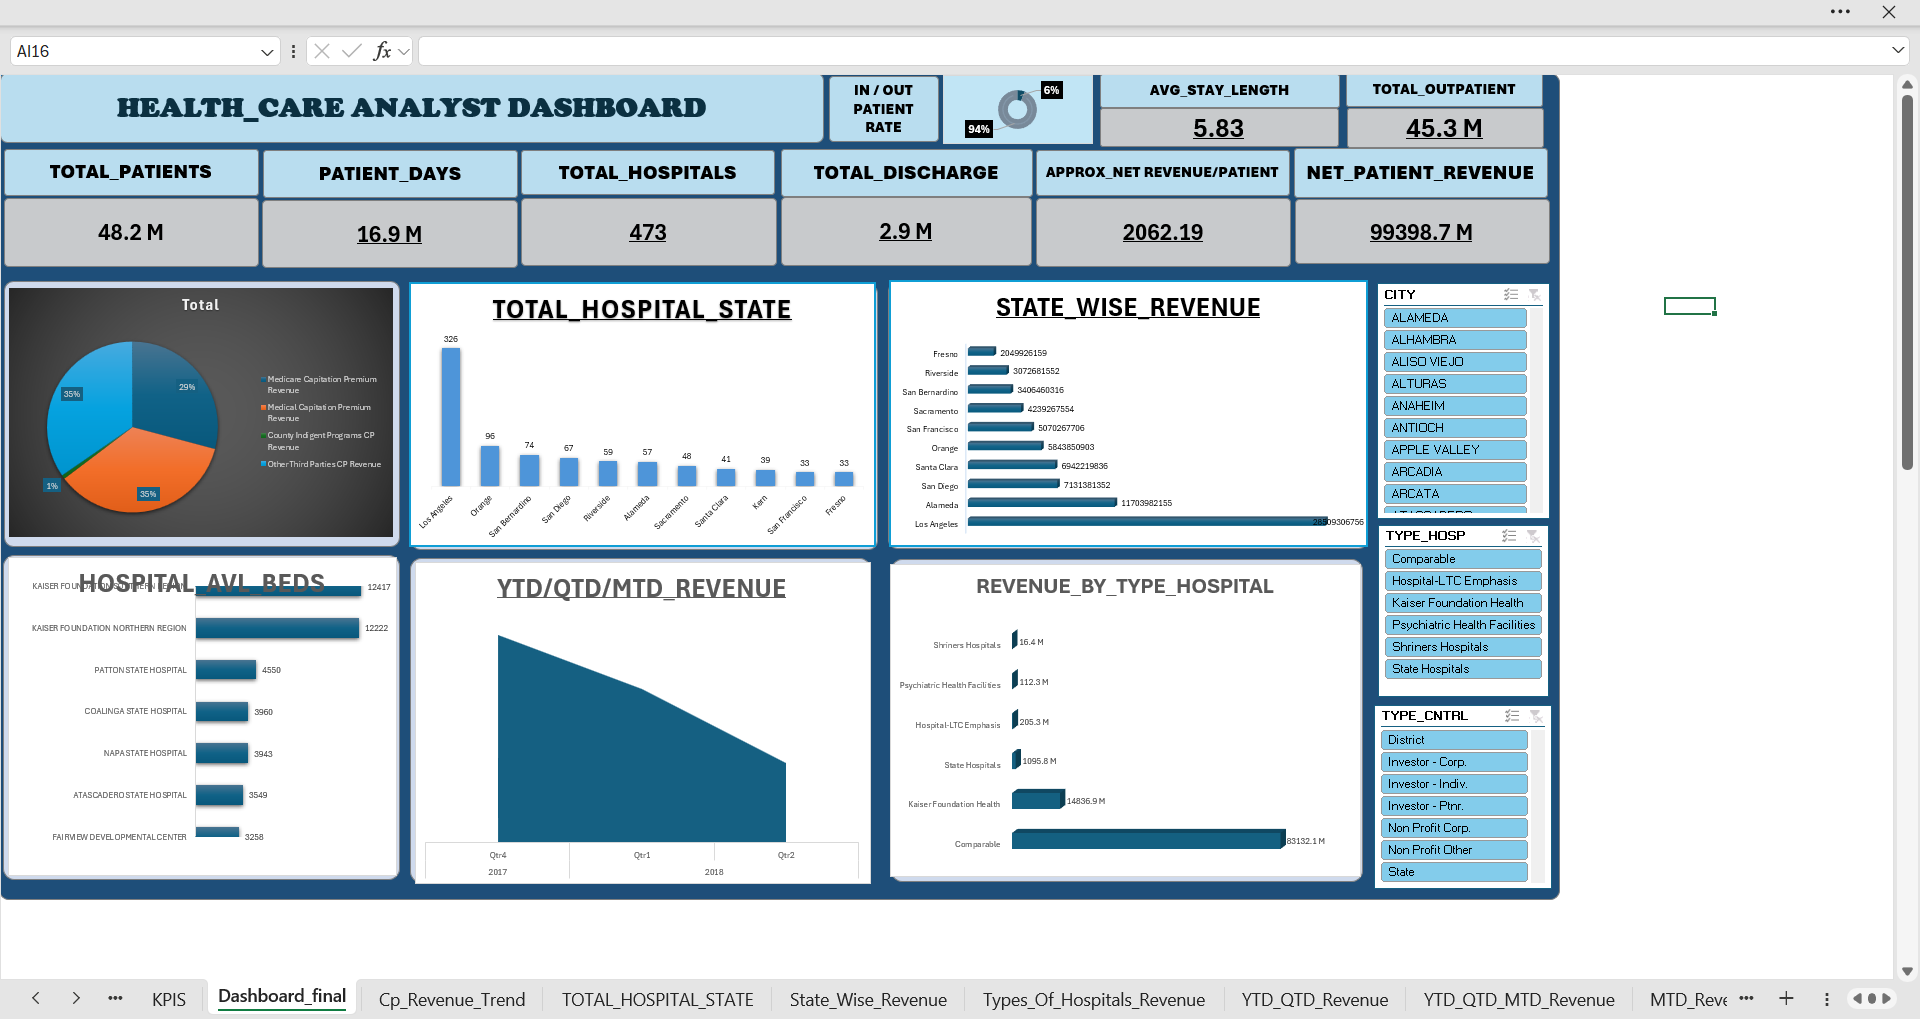

Layout of this report page (visuals, bound fields, positions):
{"tool":"tableau","page":{"name":"Dashboard 2","canvas":[1000,1000],"units":"permille","ordinal":1},"visuals":[{"type":"image","param":"Image/PLUS SYMBOL.png","box":[295.8,6.6,43.4,46.1]},{"type":"dashboard-object","box":[13.5,8.8,42.2,48.3]},{"type":"text","box":[5.1,9.4,989.7,48.1]},{"type":"dashboard-object","box":[842.4,9.9,28.1,45]},{"type":"dashboard-object","box":[944.9,9.9,26.4,45]},{"type":"dashboard-object","box":[751,12.1,31.1,40.6]},{"type":"worksheet","title":"Patients_days","mark":"Automatic","box":[5.1,57.5,247.4,81.2]},{"type":"worksheet","title":"Approx Net Revenue / Patient","mark":"Automatic","box":[252.5,57.5,247.4,81.2]},{"type":"worksheet","title":" Total Outpatient","mark":"Automatic","box":[499.9,57.5,247.4,81.2]},{"type":"worksheet","title":"Avg Stat Length","mark":"Automatic","box":[747.4,57.5,247.5,81.2]},{"type":"worksheet","title":"Hospital's Avl/Stf Beds","mark":"Automatic","rows":["FAC_NAME"],"box":[5.1,138.7,494.8,851.9]},{"type":"worksheet","title":"State Wise Revenue","mark":"Automatic","rows":["COUNTY_NAME"],"cols":["NET_TOT"],"box":[499.9,138.7,494.9,430.8]},{"type":"worksheet","title":"Capitation Premium Revenue","mark":"Pie","box":[499.9,569.5,494.9,421.1]}]}

Visuals, with their boxes on the dashboard's canvas, which has no fixed pixel size, in thousandths of its width and height (x1, y1, x2, y2). These are canvas units, not pixel positions in the 1920x1020 screenshot, which may show the page scaled, cropped or inside an application window:
image: (left=296, top=7, right=339, bottom=53)
dashboard-object: (left=14, top=9, right=56, bottom=57)
text: (left=5, top=9, right=995, bottom=58)
dashboard-object: (left=842, top=10, right=870, bottom=55)
dashboard-object: (left=945, top=10, right=971, bottom=55)
dashboard-object: (left=751, top=12, right=782, bottom=53)
"Patients_days" worksheet: (left=5, top=58, right=252, bottom=139)
"Approx Net Revenue / Patient" worksheet: (left=252, top=58, right=500, bottom=139)
" Total Outpatient" worksheet: (left=500, top=58, right=747, bottom=139)
"Avg Stat Length" worksheet: (left=747, top=58, right=995, bottom=139)
"Hospital's Avl/Stf Beds" worksheet: (left=5, top=139, right=500, bottom=991)
"State Wise Revenue" worksheet: (left=500, top=139, right=995, bottom=570)
"Capitation Premium Revenue" worksheet (Pie marks): (left=500, top=570, right=995, bottom=991)
